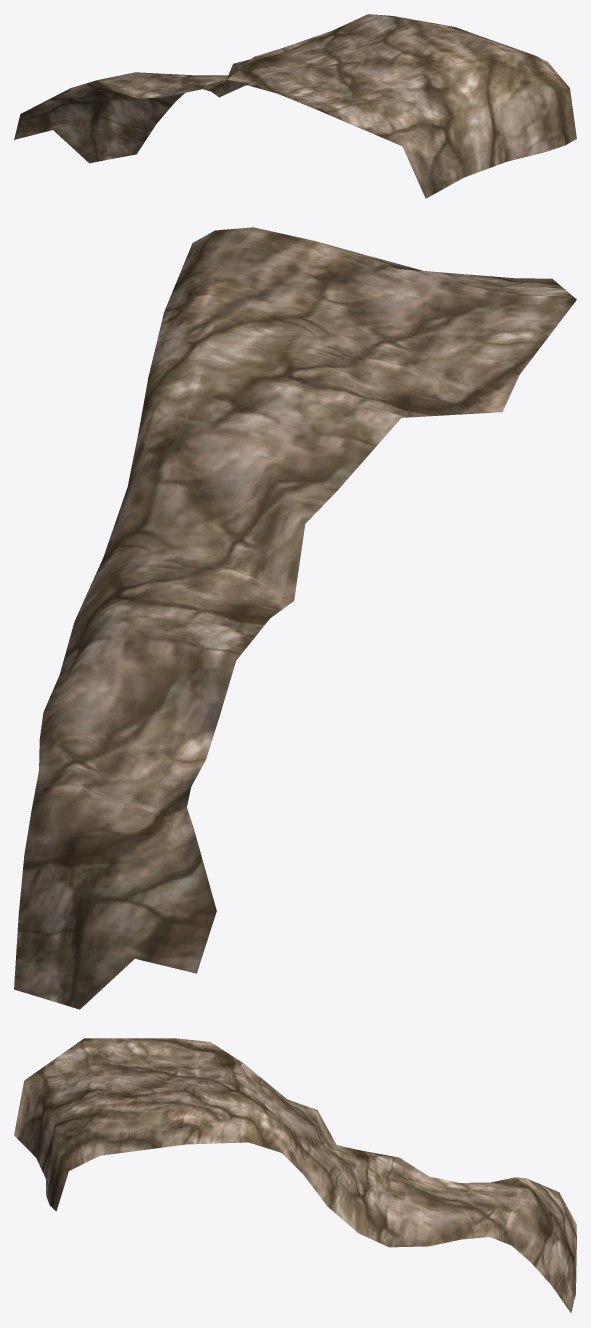
The model's file is EKH_THRONE_PS_TH_THRONE_DAM_05.fbx.
3 renders of one model, top to bottom at view 1: azimuth 30°, elevation 25°; view 2: azimuth 150°, elevation 25°; view 3: azimuth 270°, elevation 25°, orthographic. The views are drawn at different scales.
Visible parts, largest first — view 1: EKH_THRONE_PS_TH_THRONE_DAM_05; view 2: EKH_THRONE_PS_TH_THRONE_DAM_05; view 3: EKH_THRONE_PS_TH_THRONE_DAM_05.
Boxes of the visible parts, x1,y1,x2,y2 form: EKH_THRONE_PS_TH_THRONE_DAM_05: (14,14,576,198); EKH_THRONE_PS_TH_THRONE_DAM_05: (14,227,576,1009); EKH_THRONE_PS_TH_THRONE_DAM_05: (14,1038,576,1313).
Bounding box in the file's own units: 49093 × 45322 × 96524.
1 material, 1 textured.
